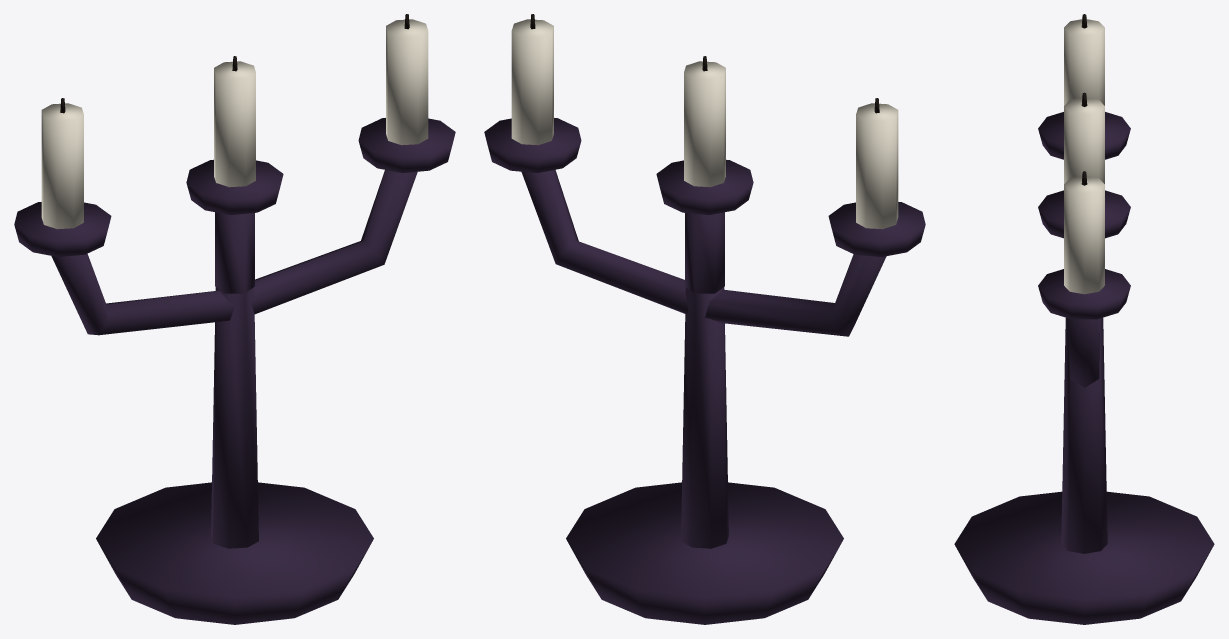
Rendered from obsidian_candelabra_v0.glb.
3 renders of one model, left to right at view 1: azimuth 30°, elevation 25°; view 2: azimuth 150°, elevation 25°; view 3: azimuth 270°, elevation 25°, orthographic. The views are drawn at different scales.
Parts seen in each view (by area): view 1: obsidian_candelabra_v0; view 2: obsidian_candelabra_v0; view 3: obsidian_candelabra_v0.
Part boxes in pixels (left/top/right/bottom): obsidian_candelabra_v0: left=14, top=14, right=455, bottom=624; obsidian_candelabra_v0: left=484, top=14, right=925, bottom=624; obsidian_candelabra_v0: left=954, top=14, right=1214, bottom=624.
Size of the model in its own units: 0.4951 by 0.575 by 0.28.
